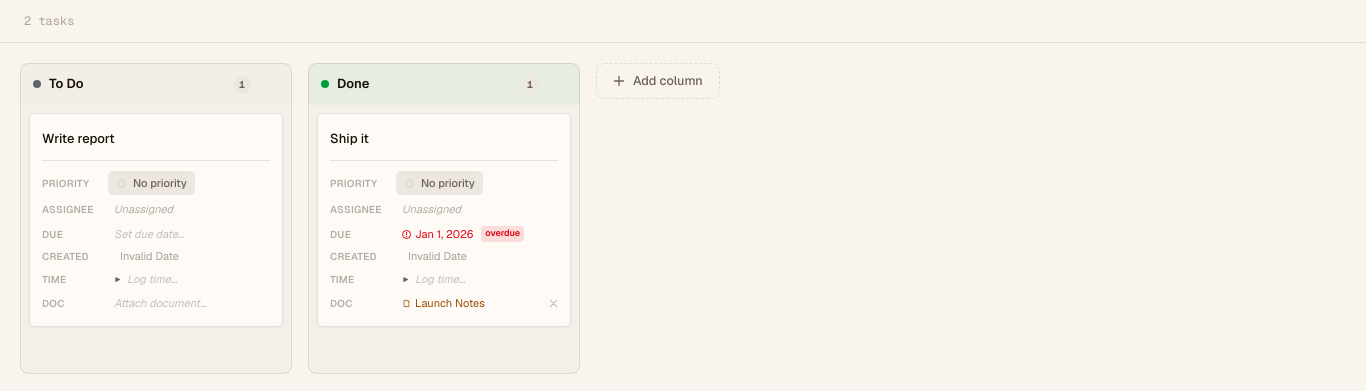
Test: KanbanView › reverts a detach when the persist fails
The width and height of the screenshot is (1366, 391).
Click the button named "Remove link".
click(554, 304)  # box x1=549 y1=299 x2=558 y2=308
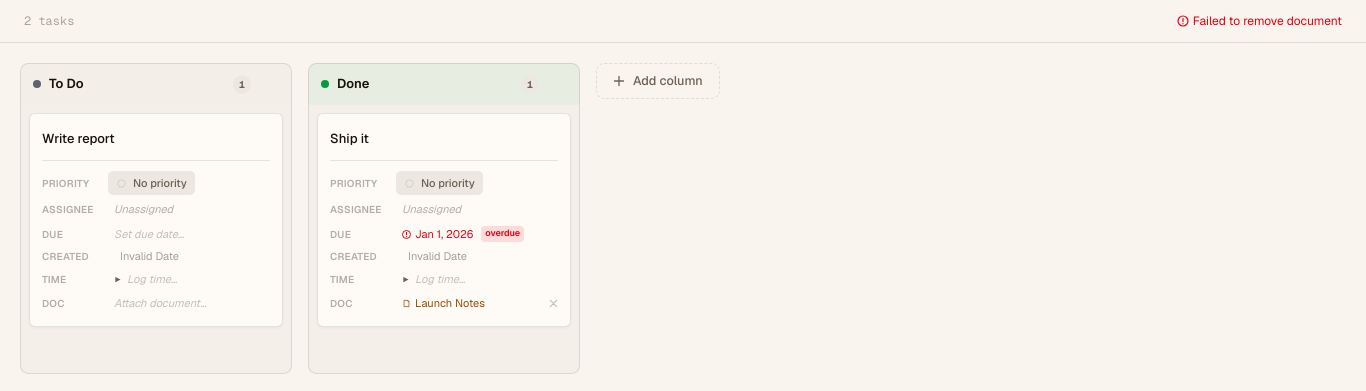
Check: the text "Failed to remove document" is shown, box x1=1177 y1=12 x2=1342 y2=30
